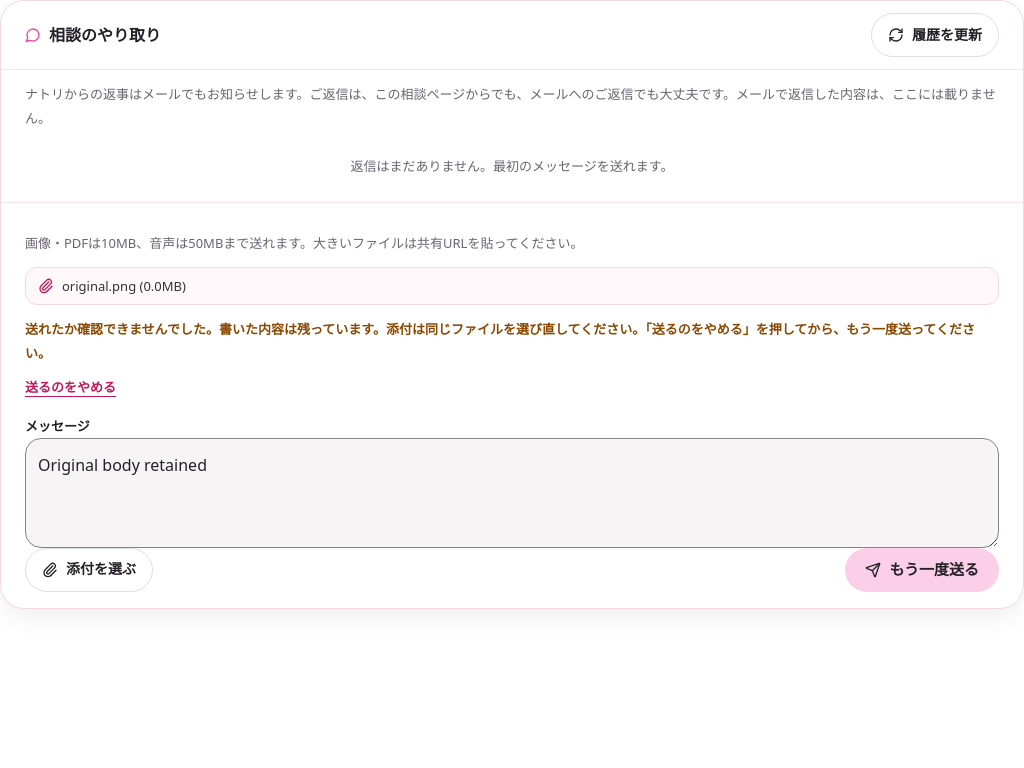
Test: consultation expired notice preserves original draft › allows cancellation of restored attachment records while explicitly requiring file reselection
The image size is (1024, 768).
Expected: the text "送れたか確認できませんでした。書いた内容は残っています。添付は同じファイルを選び直してください。「送るのをやめる」を押してから、もう一度送ってください。" is shown, [25,317,999,365]
Click the button "送るのをやめる". click: {"x": 70, "y": 388}
box: [25,377,116,398]
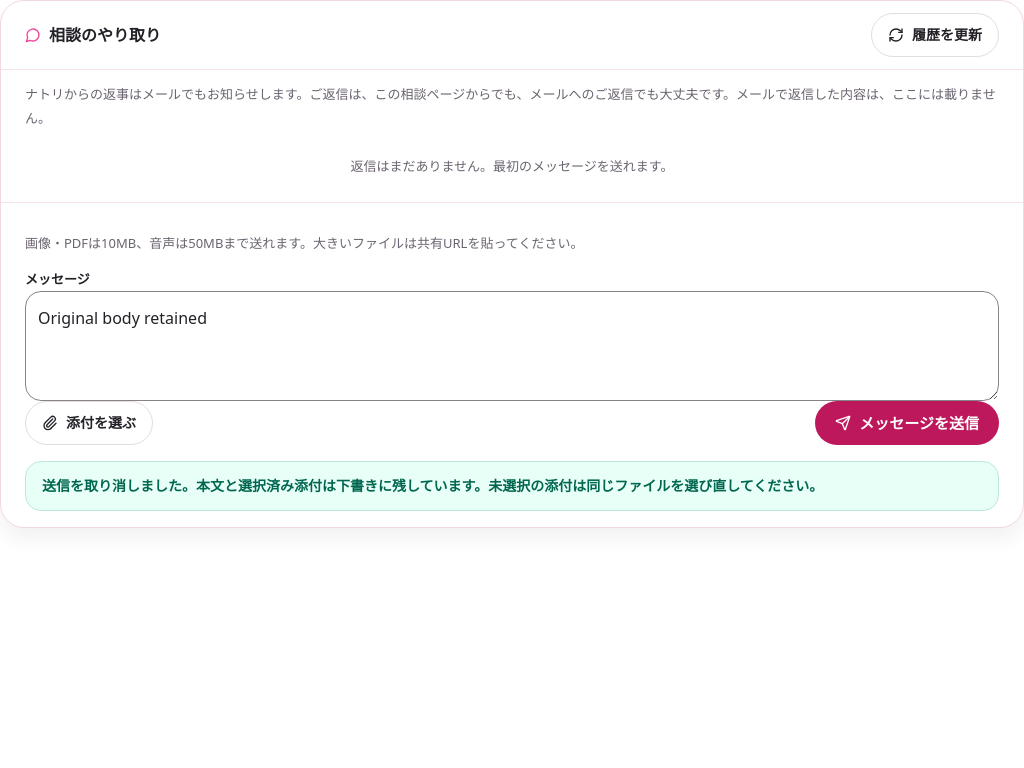
Expected: the text box holds "Original body retained", [25,291,999,401]
Now the text "送信を取り消しました。本文と選択済み添付は下書きに残しています。未選択の添付は同じファイルを選び直してください。" is shown, box [25,461,999,511]
Now the text box is enabled, box [25,291,999,401]
